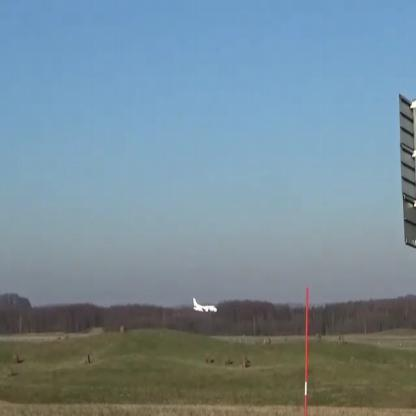aircraft: (192, 297, 217, 312)
